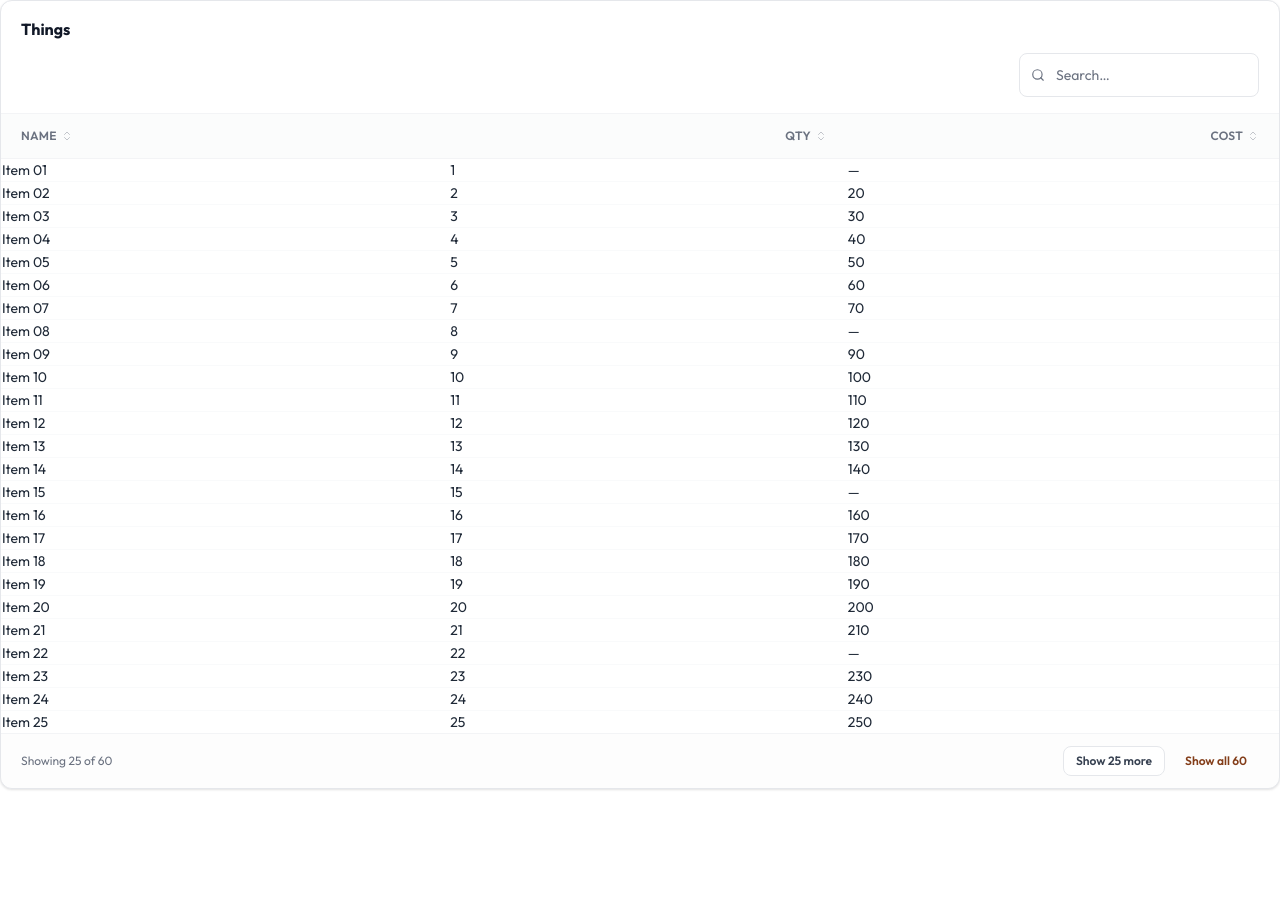
DataTable › searches, counts the matches, and says when nothing matches
In the search field: (1139, 75) [1019,53,1259,97], type "item 07"
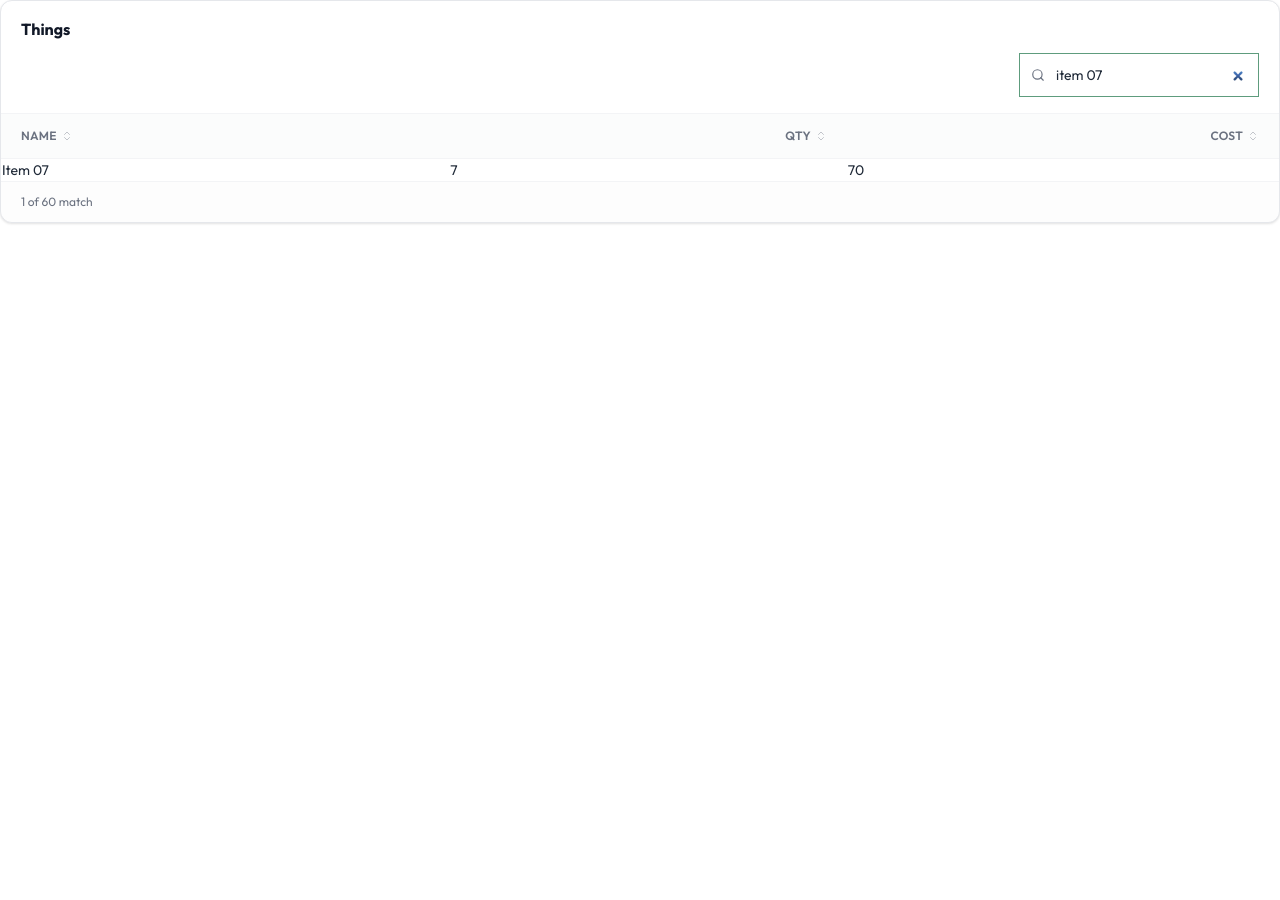
Expected: the text "1 of 60 match" is shown, [21,194,93,210]
Replace the text in the search field with "zzz": (1139, 75) [1019,53,1259,97]
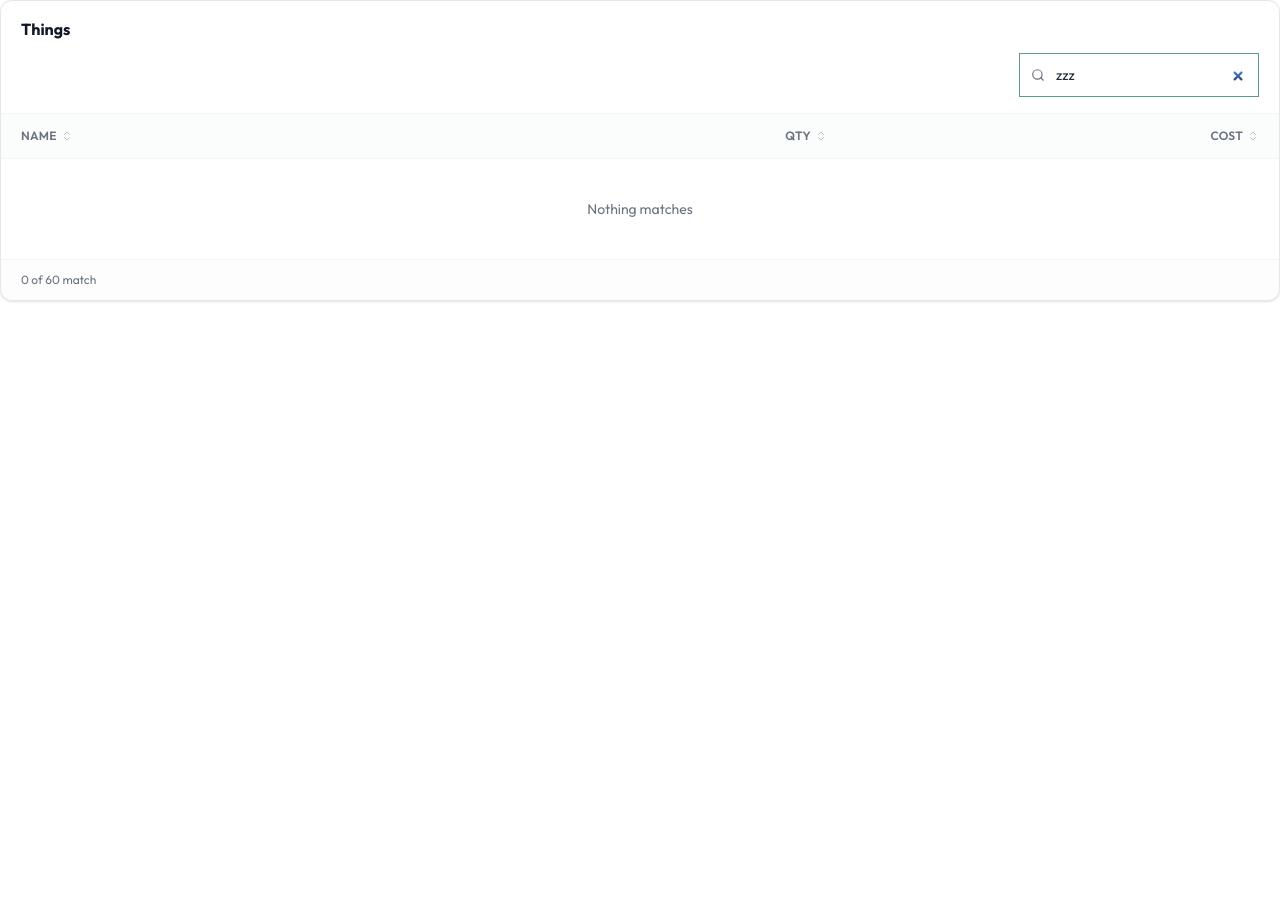
Expected: the text "Nothing matches" is shown, [1,158,1279,259]
